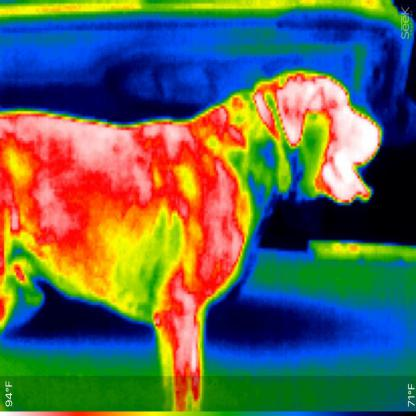dog: (0, 66, 384, 410)
